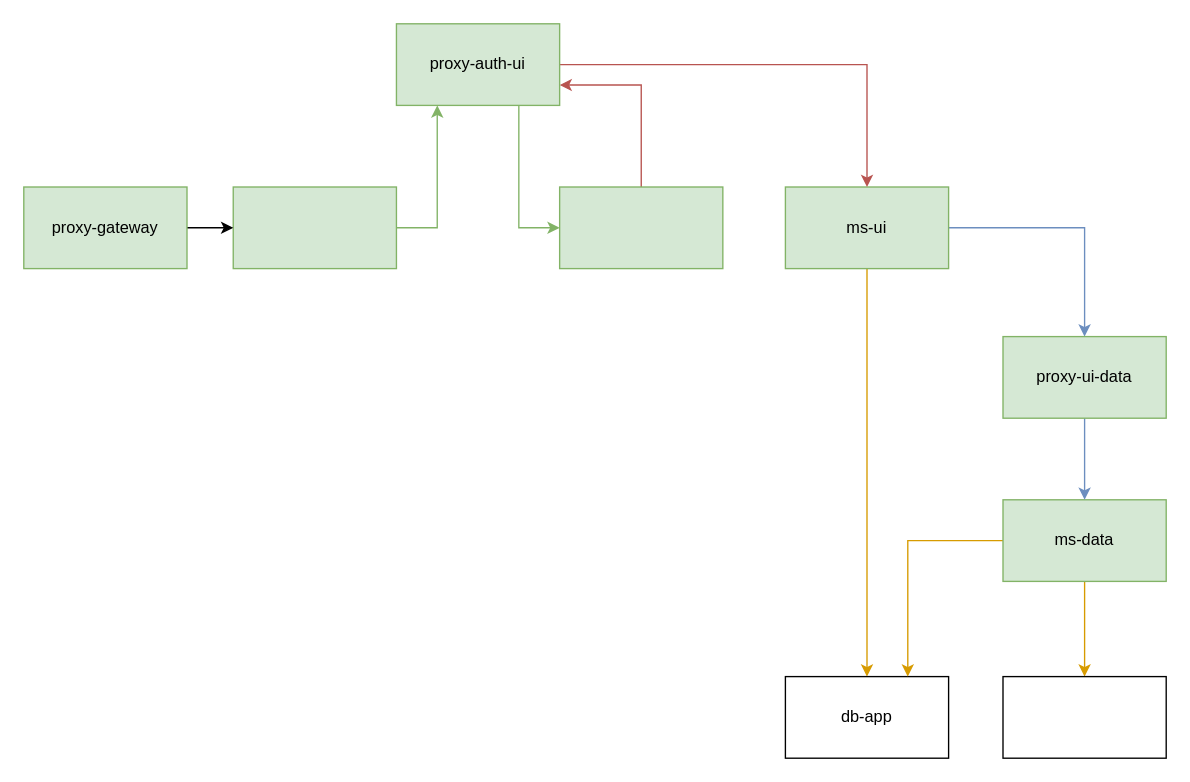
Some shapes in this 1190 by 782 pixel diagram are drawn without their labels. Here are the shapes that lost their labels. From the top down, the centre of each, then its label:
At [314,227]: "ms-auth".
At [640,227]: "ui-app".
At [1084,716]: "db-data".
